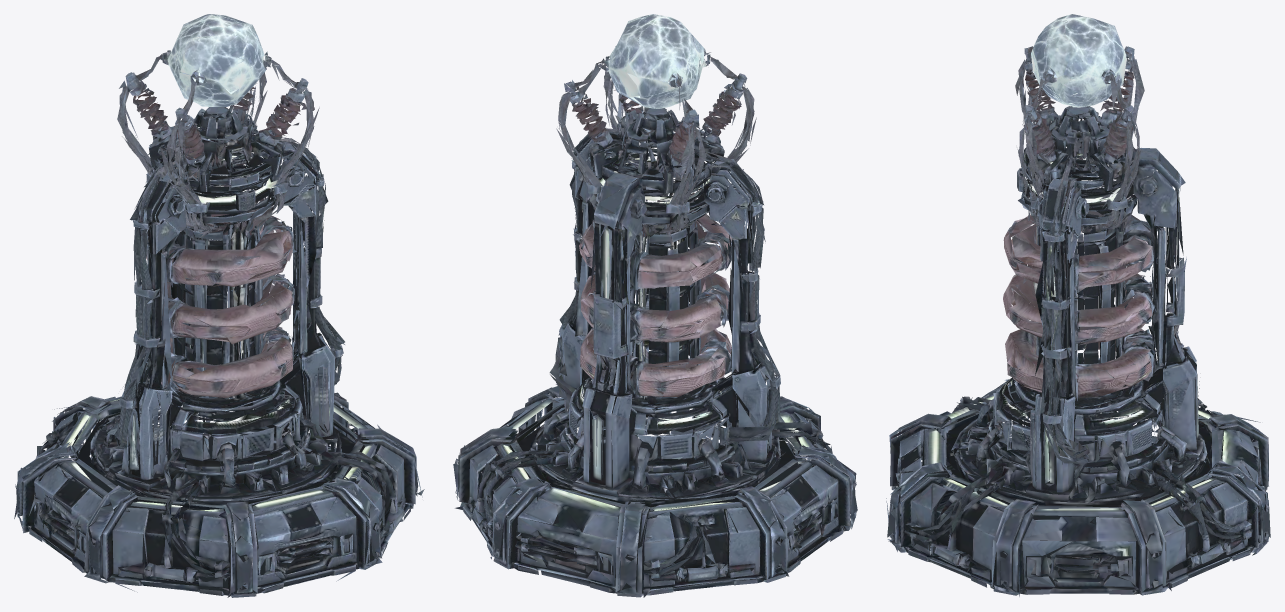
Rendered from tower_tesla_p2_t5.glb.
3 renders of one model, left to right at view 1: azimuth 30°, elevation 25°; view 2: azimuth 150°, elevation 25°; view 3: azimuth 270°, elevation 25°, orthographic.
Visible parts, largest first — view 1: body; view 2: body; view 3: body.
Part boxes in pixels (<box>): body: <box>14,14,424,597</box>; body: <box>453,14,857,597</box>; body: <box>886,14,1270,596</box>.
Bounding box in the file's own units: 0.8211 × 1.17 × 0.8091.
1 material, 1 textured.
